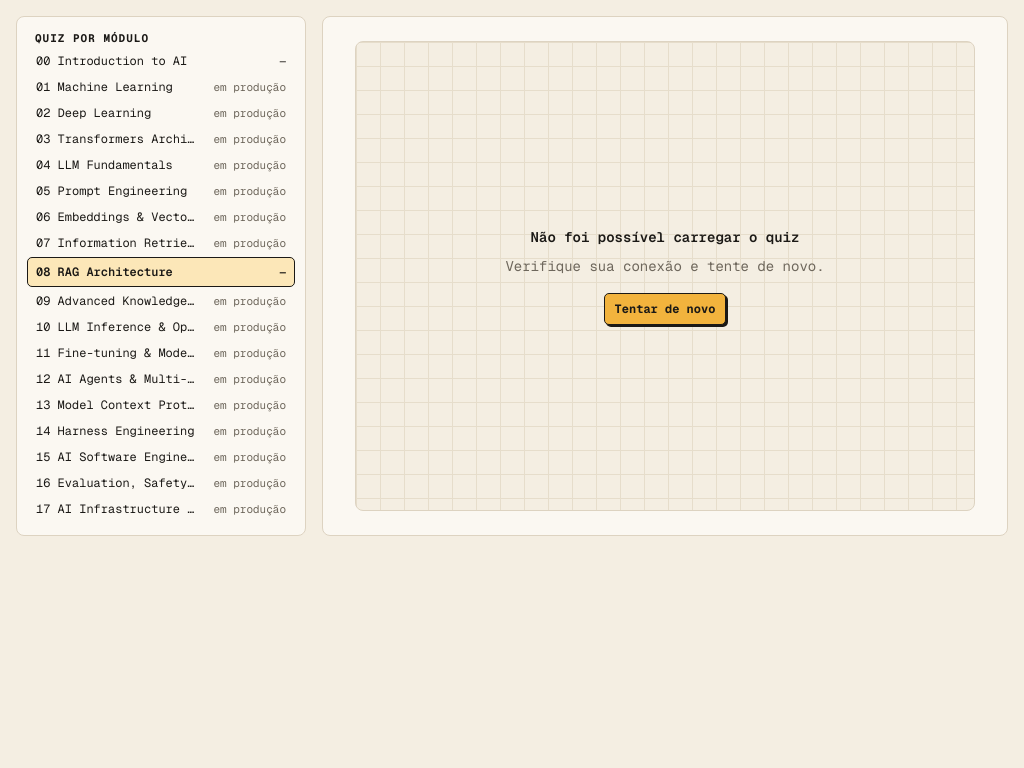
PracticePage (PRAC-01.1) › falha ao carregar o quiz mostra tentar de novo, que recarrega
Click the button "Tentar de novo".
click(665, 309)  # box top-left (604, 293), bottom-right (726, 325)
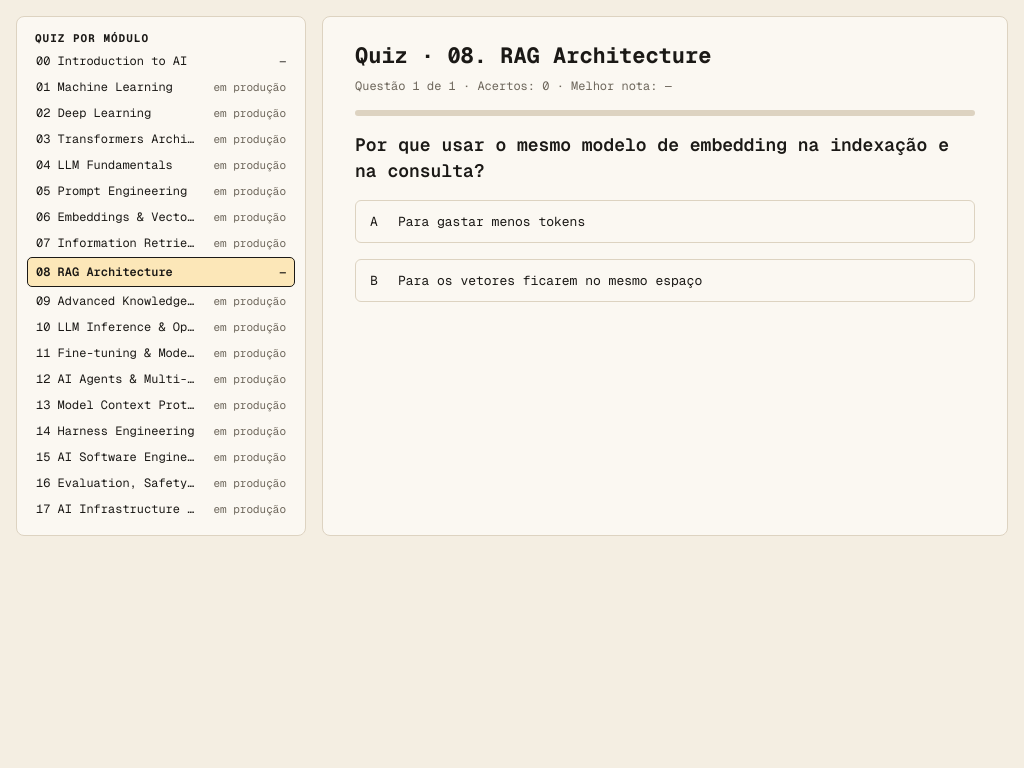
Expected: the heading "Quiz · 08. RAG Architecture" is shown, top-left (355, 41), bottom-right (711, 70)
